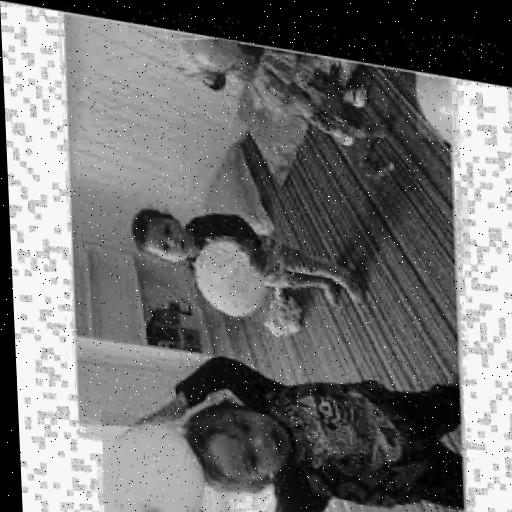balloon: (101, 407, 208, 512), (191, 228, 269, 317), (179, 27, 246, 78), (415, 62, 451, 133)
